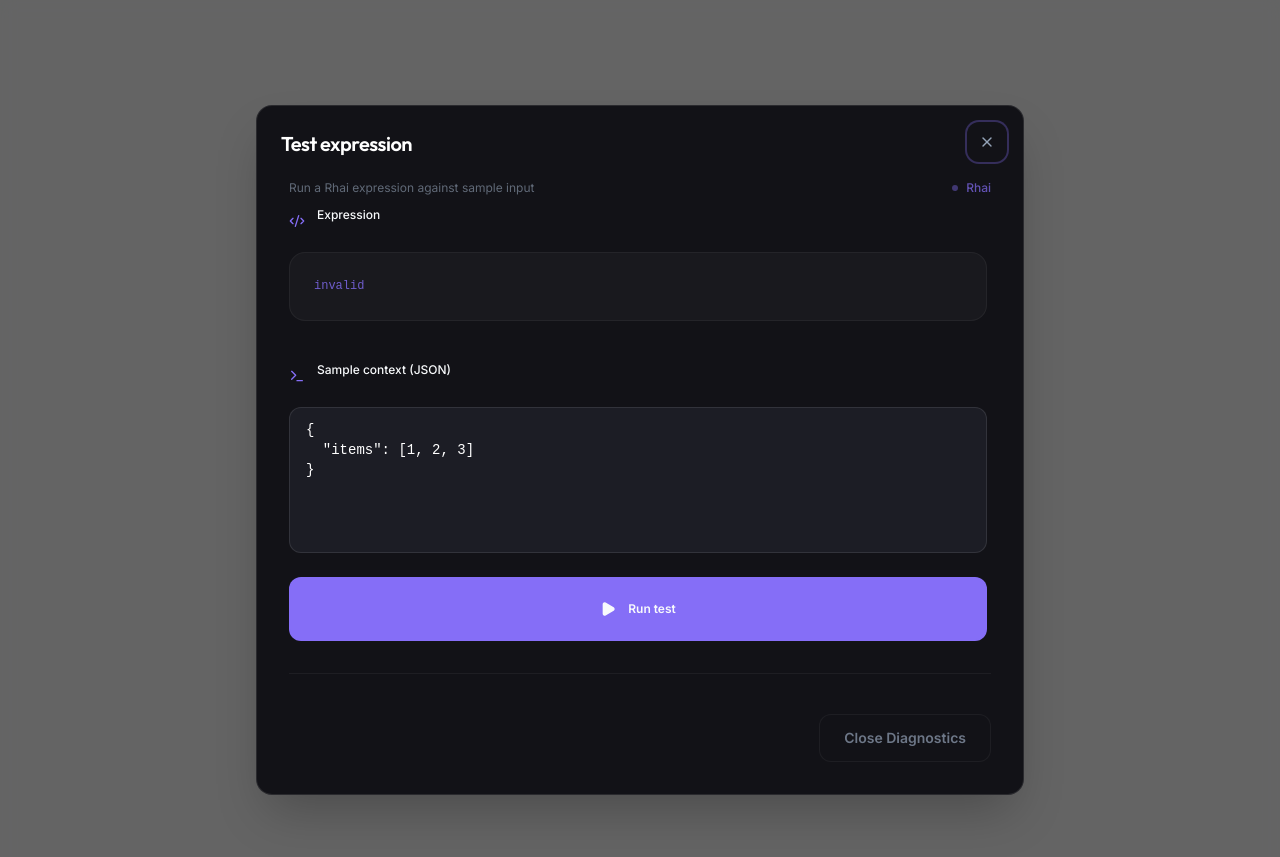
Test: TestRhaiModal › shows error when test fails
The image size is (1280, 857).
Step 1. Click the button "Run test" → (638, 609), box [289,577,987,641]
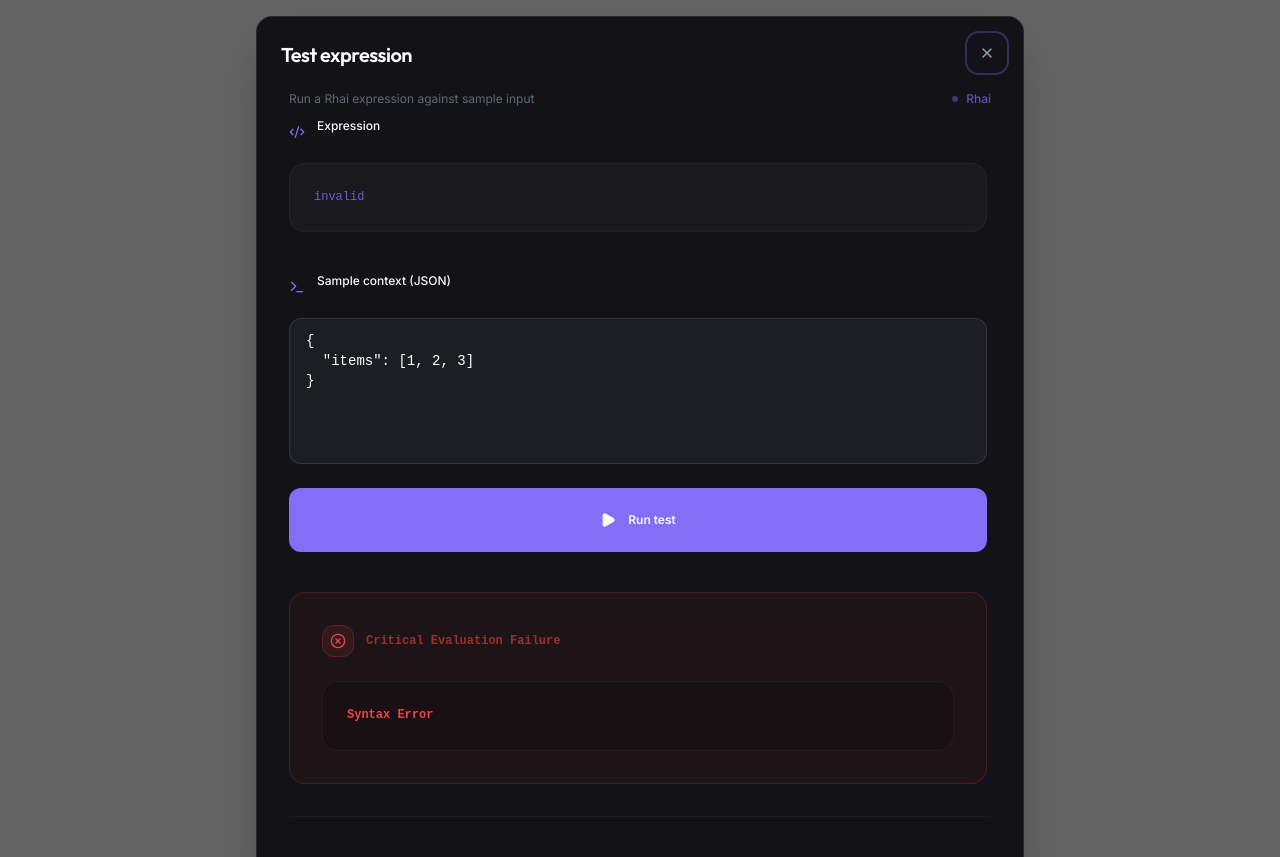
Result: the text "Critical Evaluation Failure" is shown at [366,633,560,649]
Result: the text "Syntax Error" is shown at [322,681,954,750]
